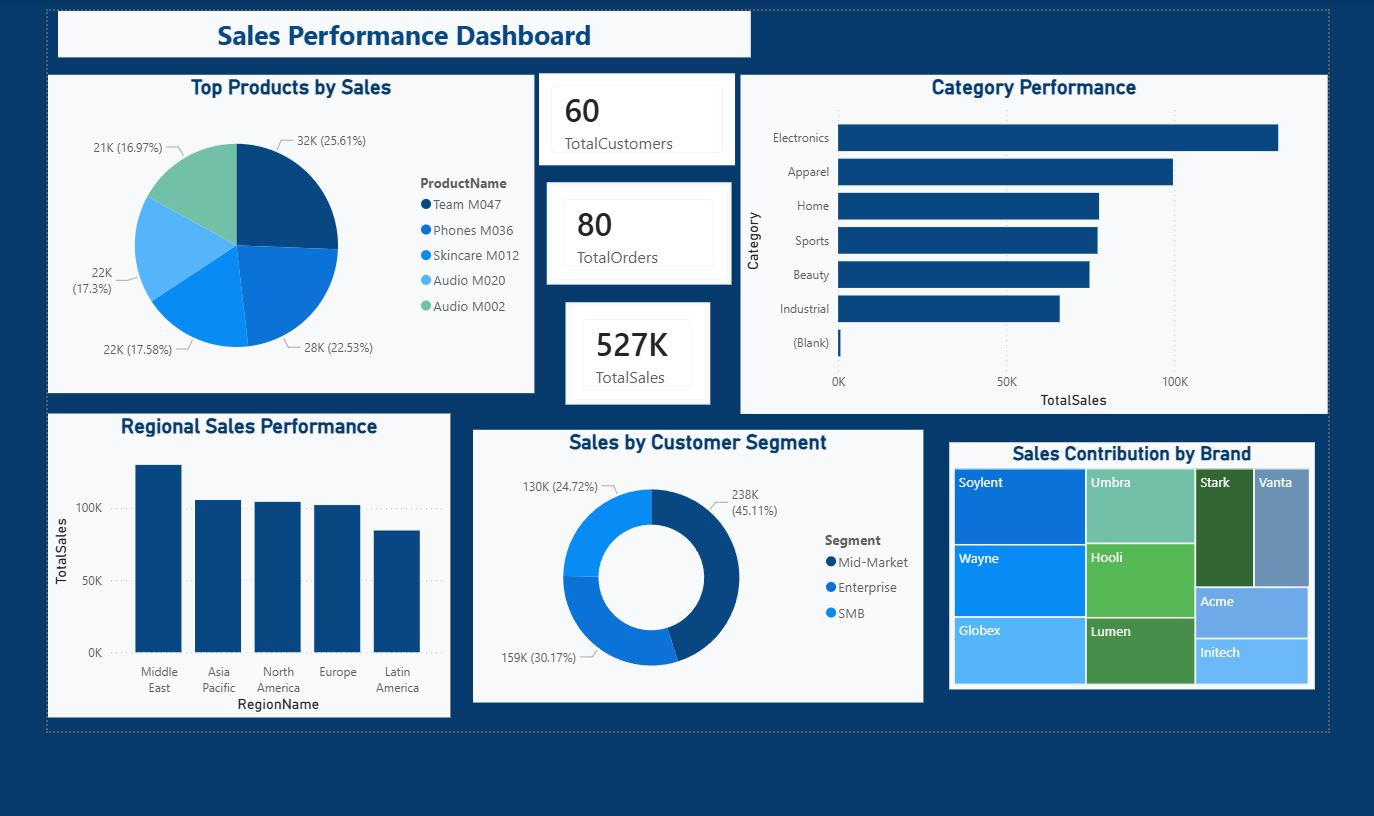

The page's visual inventory and layout, read from the dashboard file:
{"tool":"powerbi","page":{"name":" Sales Overveiw ","canvas":[1280,720],"ordinal":0},"visuals":[{"type":"textbox","box":[10,0,692.5,46.2],"z":0},{"type":"cardVisual","fields":{"Data":["_measures.TotalSales"]},"box":[517.6,290.8,144.8,102.5],"z":1000},{"type":"cardVisual","fields":{"Data":["_measures.TotalOrders"]},"box":[498.3,171.3,184.6,102.5],"z":2000},{"type":"cardVisual","fields":{"Data":["_measures.TotalCustomers"]},"box":[486.2,57.9,206.3,102.5],"z":3000},{"type":"clusteredBarChart","title":"Category Performance","fields":{"Category":["DimProducts.Category"],"Y":["_measures.TotalSales"]},"box":[692.5,63.9,587.5,339],"z":4000},{"type":"clusteredColumnChart","title":"Regional Sales Performance","fields":{"Category":["DimGeo.RegionName"],"Y":["_measures.TotalSales"]},"box":[0,402.5,402.5,303.8],"z":5000},{"type":"pieChart","title":"\tTop Products by Sales","fields":{"Category":["DimProducts.ProductName"],"Y":["_measures.TotalSales"]},"box":[0,63.9,486.2,318.5],"z":6000},{"type":"treemap","title":"Sales Contribution by Brand","fields":{"Group":["DimProducts.Brand"],"Values":["_measures.TotalSales"]},"box":[901.2,430.7,365.6,247.3],"z":7000},{"type":"donutChart","title":"Sales by Customer Segment","fields":{"Category":["DimCustomers.Segment"],"Y":["_measures.TotalSales"]},"box":[424.7,418.6,450,272.7],"z":8000}]}

Visuals, with their boxes on the page's 1280x720 design canvas (x1, y1, x2, y2). These are canvas units, not pixel positions in the 1374x816 screenshot, which may show the page scaled, cropped or inside an application window:
textbox: x1=10, y1=0, x2=702, y2=46
cardVisual - _measures.TotalSales: x1=518, y1=291, x2=662, y2=393
cardVisual - _measures.TotalOrders: x1=498, y1=171, x2=683, y2=274
cardVisual - _measures.TotalCustomers: x1=486, y1=58, x2=692, y2=160
"Category Performance" clusteredBarChart: x1=692, y1=64, x2=1280, y2=403
"Regional Sales Performance" clusteredColumnChart: x1=0, y1=402, x2=402, y2=706
"	Top Products by Sales" pieChart: x1=0, y1=64, x2=486, y2=382
"Sales Contribution by Brand" treemap: x1=901, y1=431, x2=1267, y2=678
"Sales by Customer Segment" donutChart: x1=425, y1=419, x2=875, y2=691
